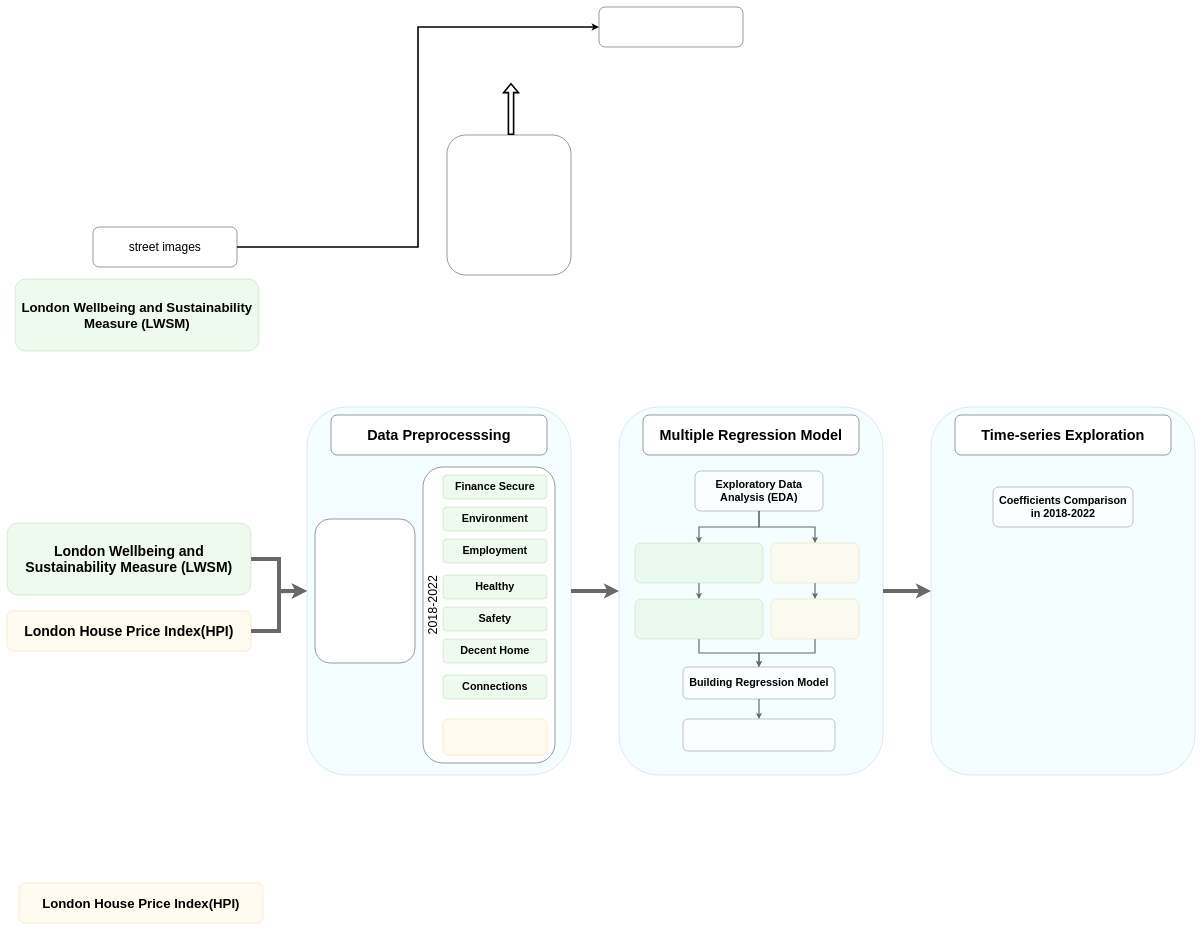
The diagram is 1202 pixels wide and 930 high, and some of its shapes have lost their labels. The centre of each missing label's shape, as x and y in pixels:
"7 Independent Variables" goes at [699,619].
"Annual Difference" goes at [495,737].
"Cleaning Extracting Calculating Normalizing" goes at [365,591].
"CNN(self-supervised learning)" goes at [671,27].
"Could deep learning measure and evaluate images accurately?" goes at [509,205].
"Dependent Var" goes at [815,619].
"HPI Price Diff" goes at [815,563].
"Metrics Explanation" goes at [759,735].
"VIF for Multicollinearity" goes at [699,563].
